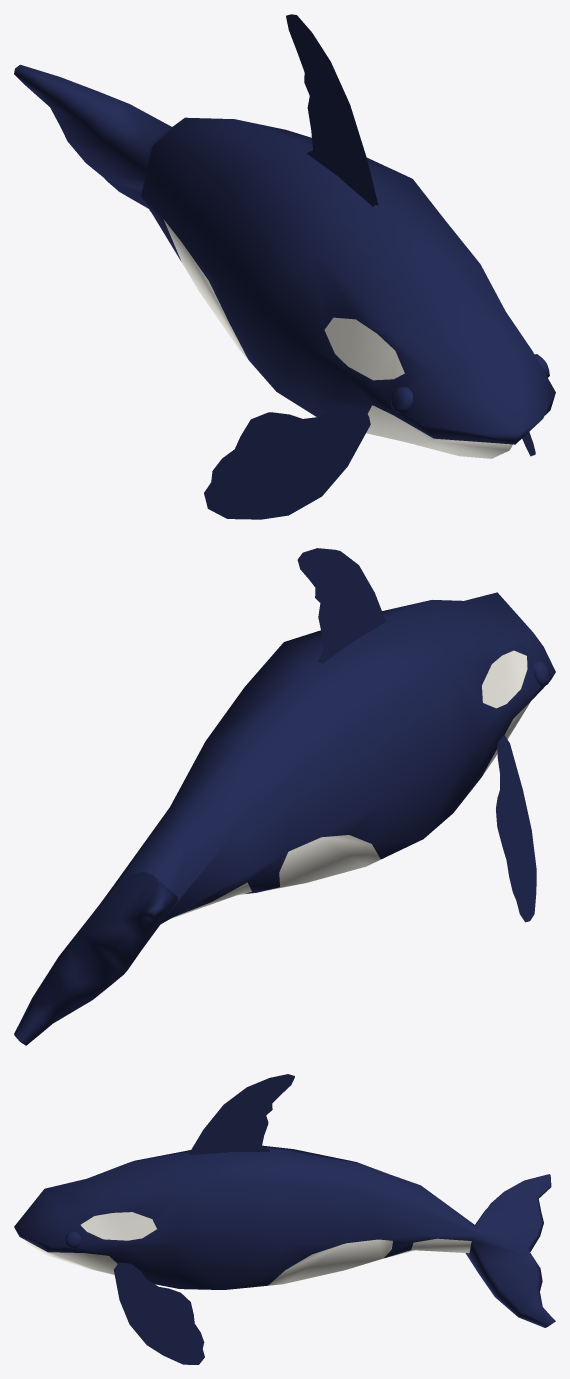
3 renders of one model, top to bottom at view 1: azimuth 30°, elevation 25°; view 2: azimuth 150°, elevation 25°; view 3: azimuth 270°, elevation 25°, orthographic. The views are drawn at different scales.
Visible parts, largest first — view 1: Fish_Orca; view 2: Fish_Orca; view 3: Fish_Orca.
Part boxes in pixels (x1=…): Fish_Orca: x1=14, y1=14, x2=555, y2=519; Fish_Orca: x1=14, y1=548, x2=555, y2=1045; Fish_Orca: x1=14, y1=1074, x2=555, y2=1364.
Size of the model in its own units: 92.8 by 112 by 223.
